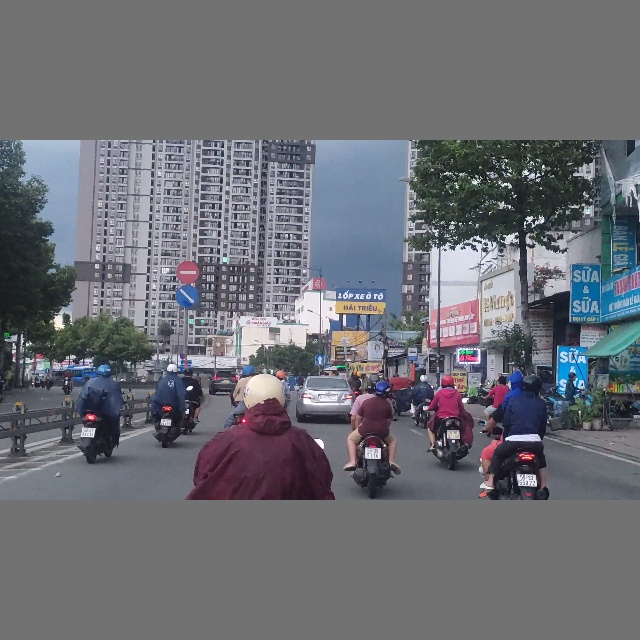I.407a: (315, 355, 325, 365)
I.434a: (407, 347, 418, 360)
P.102: (176, 260, 200, 285)
R.302a: (175, 285, 200, 308)
